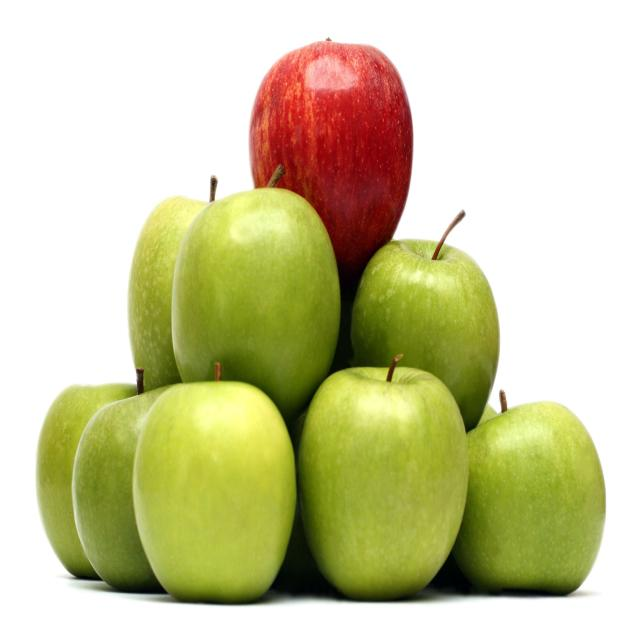manzana: (233, 20, 433, 272)
